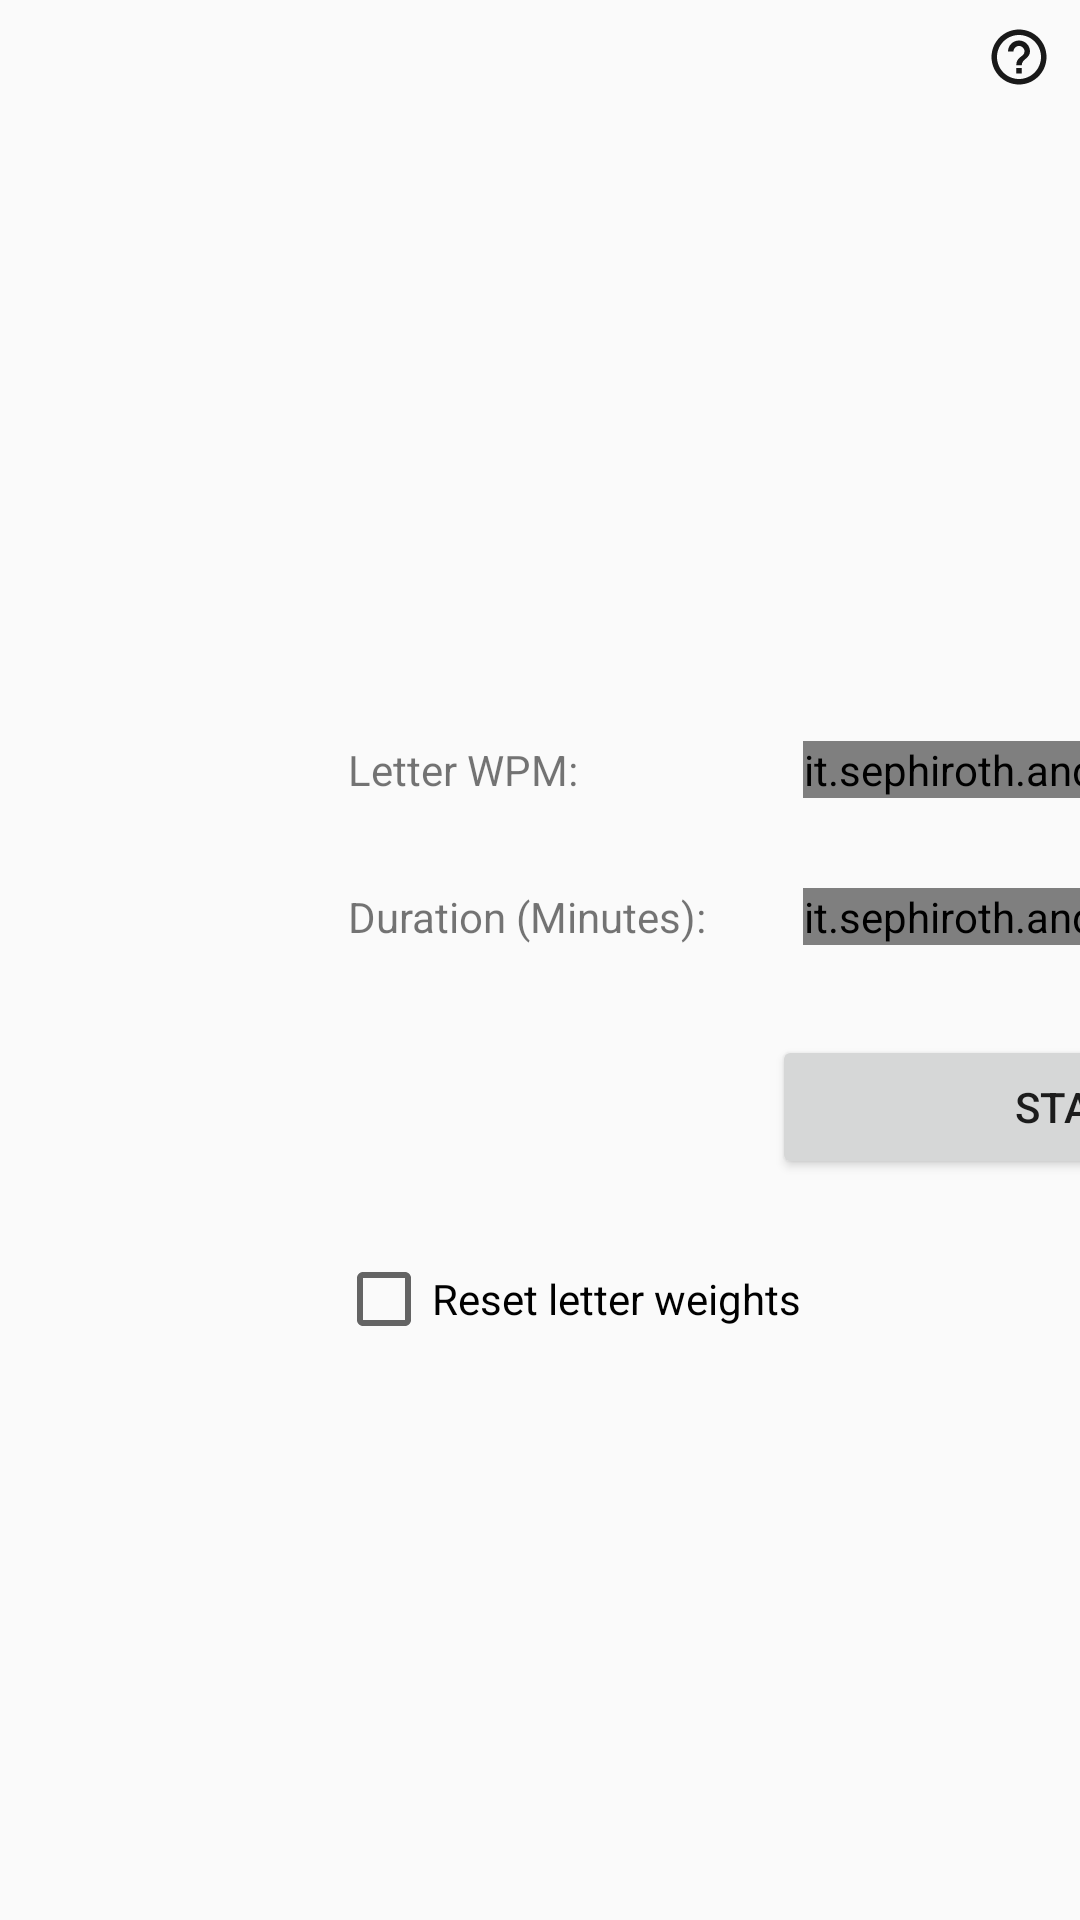

Locate icon controls on the screen. Image size 1080 x 1920, boxes as (x1, y1, x2, y2).
help: (991, 29, 1047, 85)
